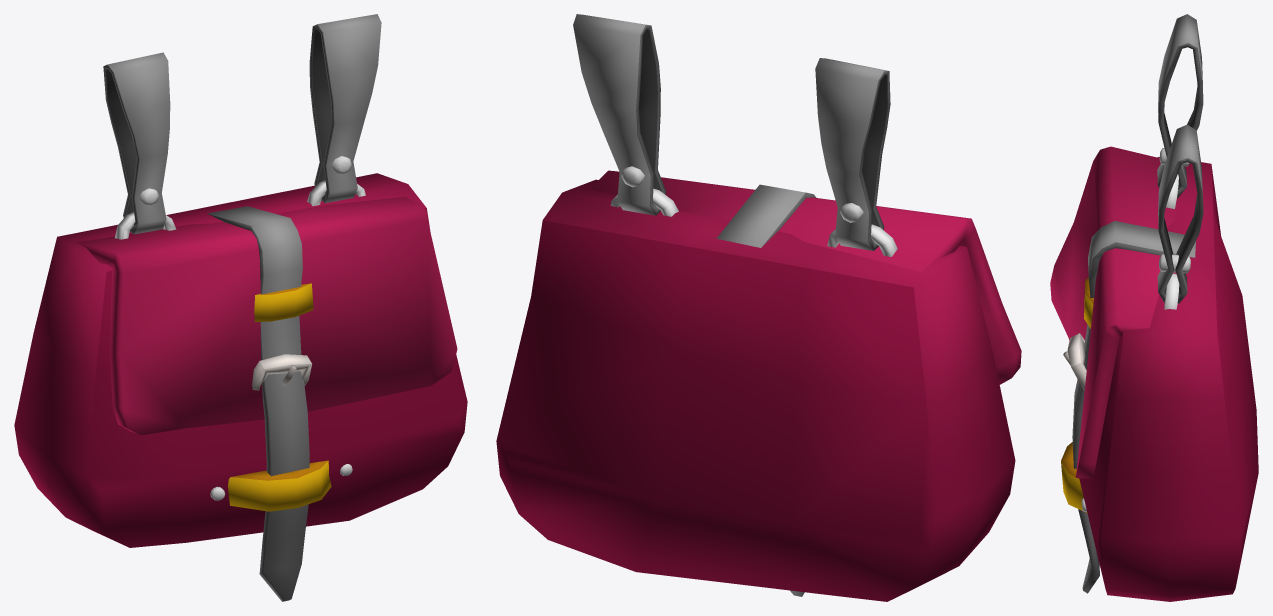
File: SM_BackPack_46.fbx
3 views of the same model, side by side, from view 1: azimuth 30°, elevation 25°; view 2: azimuth 150°, elevation 25°; view 3: azimuth 270°, elevation 25° (orthographic). The views are drawn at different scales.
Visible parts, largest first — view 1: SM_BackPack_46; view 2: SM_BackPack_46; view 3: SM_BackPack_46.
Part boxes in pixels (bbox=[...]): SM_BackPack_46: bbox=[14, 14, 467, 601]; SM_BackPack_46: bbox=[496, 14, 1021, 601]; SM_BackPack_46: bbox=[1050, 14, 1258, 601].
Bounding box in the file's own units: 116 × 148 × 53.97.
